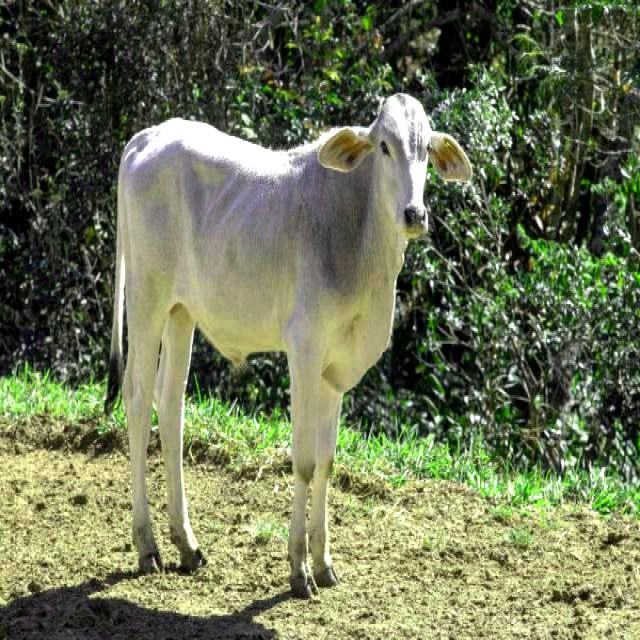COW: (106, 94, 471, 597)
